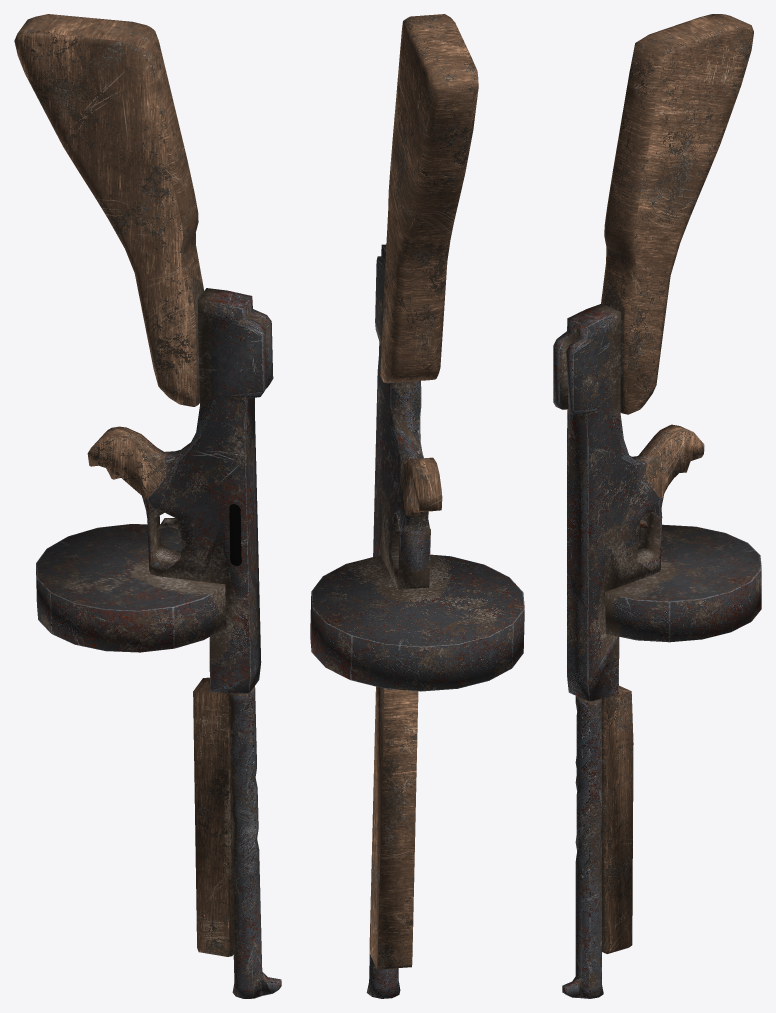
File: Anim_disparar_ametralladora_objetos.0012.obj
3 renders of one model, left to right at view 1: azimuth 30°, elevation 25°; view 2: azimuth 150°, elevation 25°; view 3: azimuth 270°, elevation 25°, orthographic. The views are drawn at different scales.
Visible parts, largest first — view 1: Ametralladora1; view 2: Ametralladora1; view 3: Ametralladora1.
Boxes of the visible parts, x1,y1,x2,y2 form: Ametralladora1: [14, 14, 281, 998]; Ametralladora1: [310, 14, 524, 998]; Ametralladora1: [553, 14, 761, 998].
Bounding box in the file's own units: 1.2 × 6 × 1.24.
